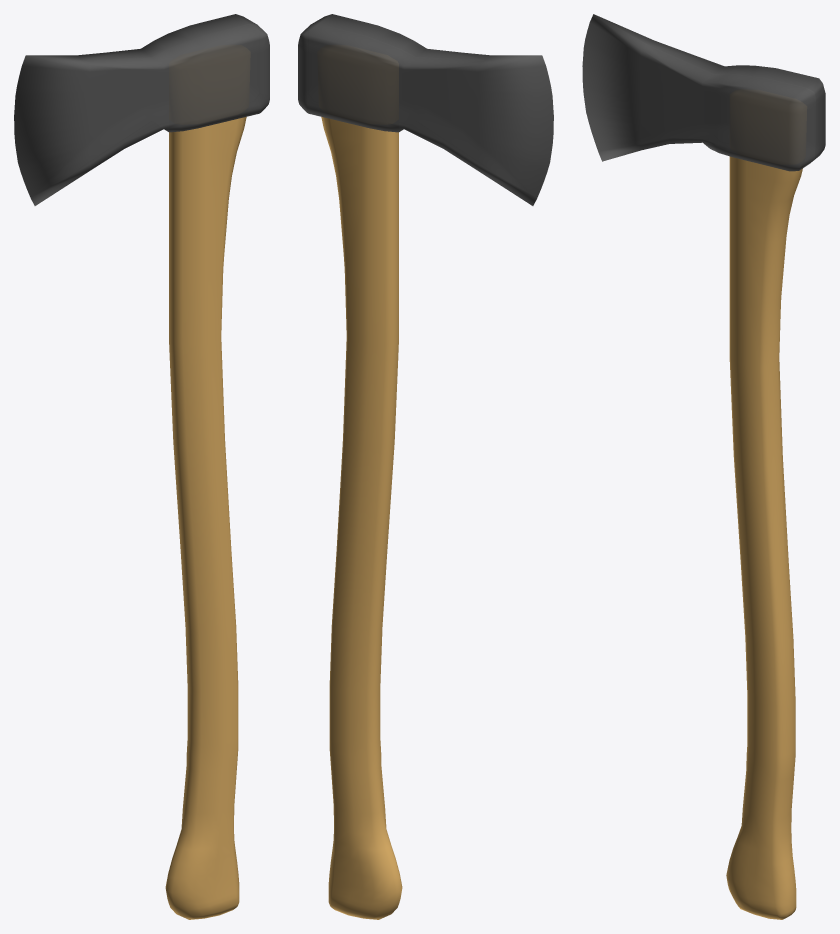
File: SM_Axe1.fbx
3 views of the same model, side by side, from view 1: azimuth 30°, elevation 25°; view 2: azimuth 150°, elevation 25°; view 3: azimuth 330°, elevation 25° (orthographic). The views are drawn at different scales.
Visible parts, largest first — view 1: Axe1; view 2: Axe1; view 3: Axe1.
Boxes of the visible parts, left/top/right/bottom form: Axe1: left=14, top=14, right=269, bottom=919; Axe1: left=298, top=14, right=553, bottom=919; Axe1: left=582, top=14, right=825, bottom=919.
Size of the model in its own units: 39.66 by 140 by 8.23.
